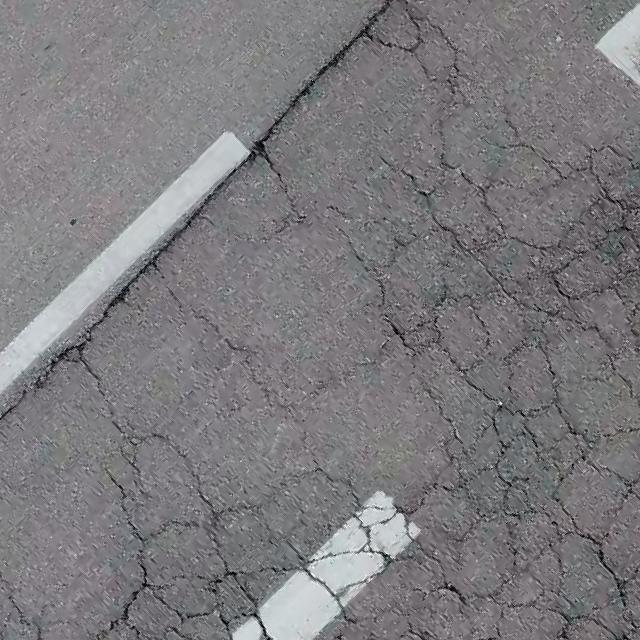GRIETA: (0, 0, 400, 422)
PIEL DE COCODRILO: (0, 1, 639, 639)
